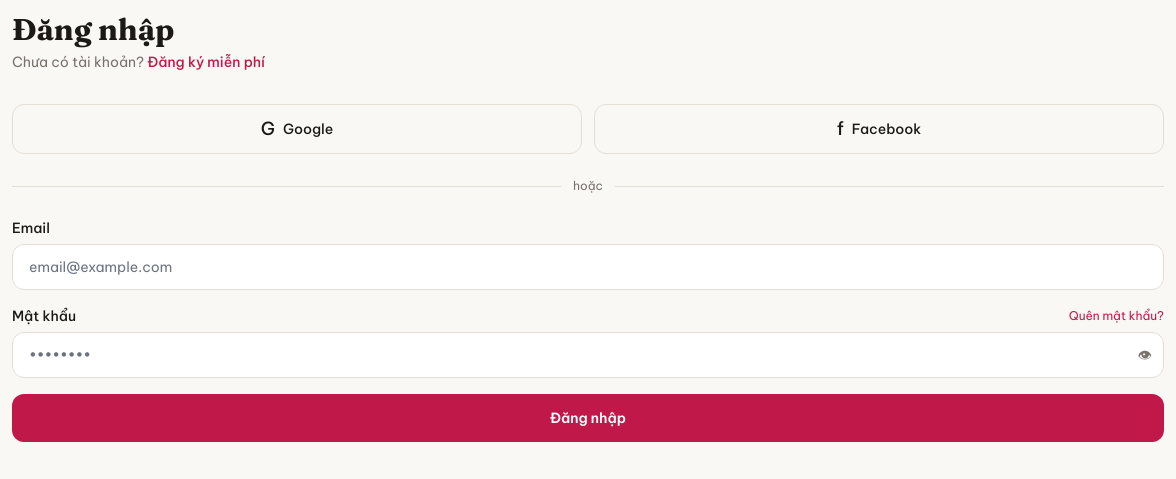
it: LoginPage.vue › displays validation errors under fields (422)
The width and height of the screenshot is (1176, 479).
Type "test@example.com" into the field labelled "Email" at (588, 267), box x1=12 y1=244 x2=1164 y2=290
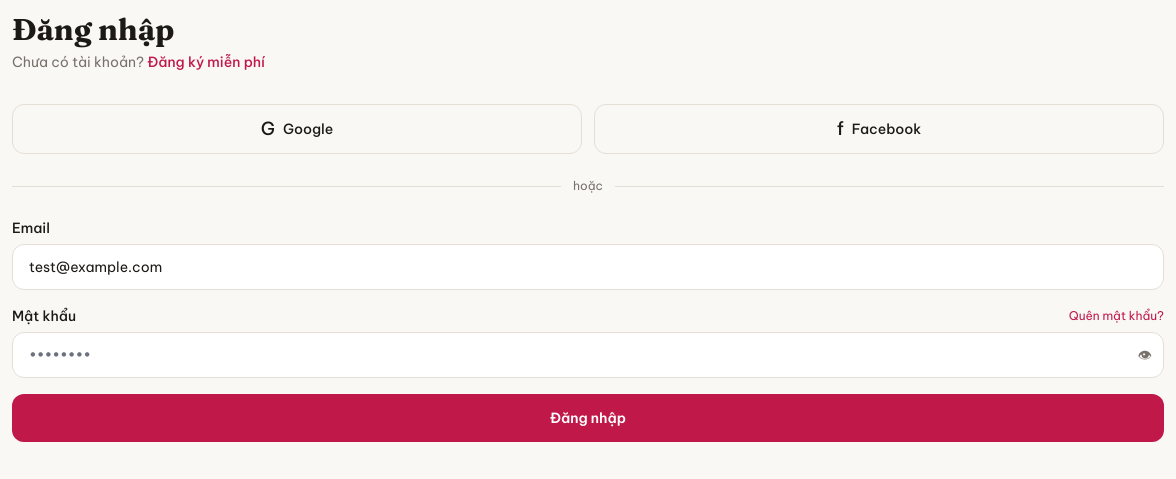
Type "password123" into the password field labelled "Mật khẩu" at (588, 355), box x1=12 y1=332 x2=1164 y2=378
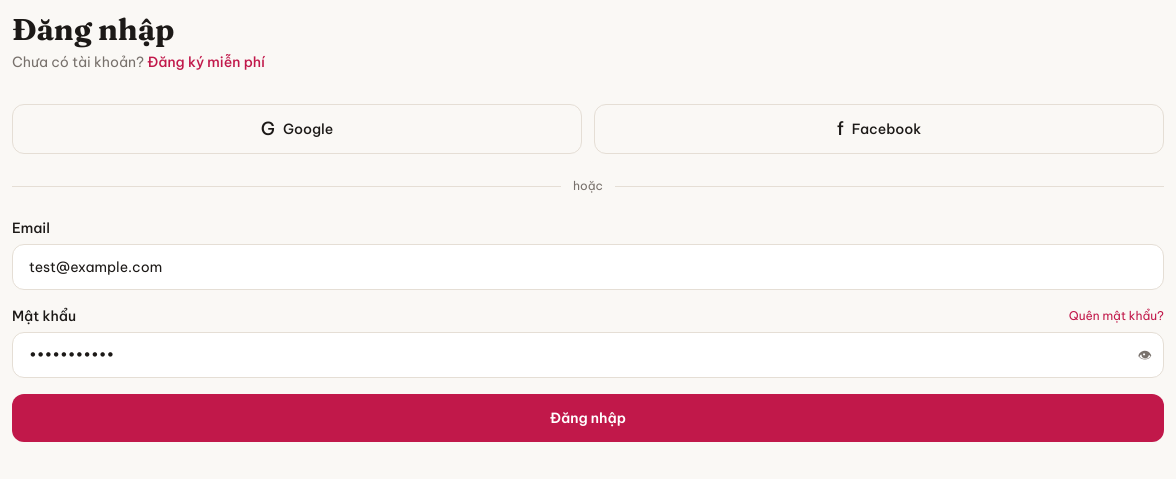
Submit the form, box x1=12 y1=218 x2=1164 y2=442
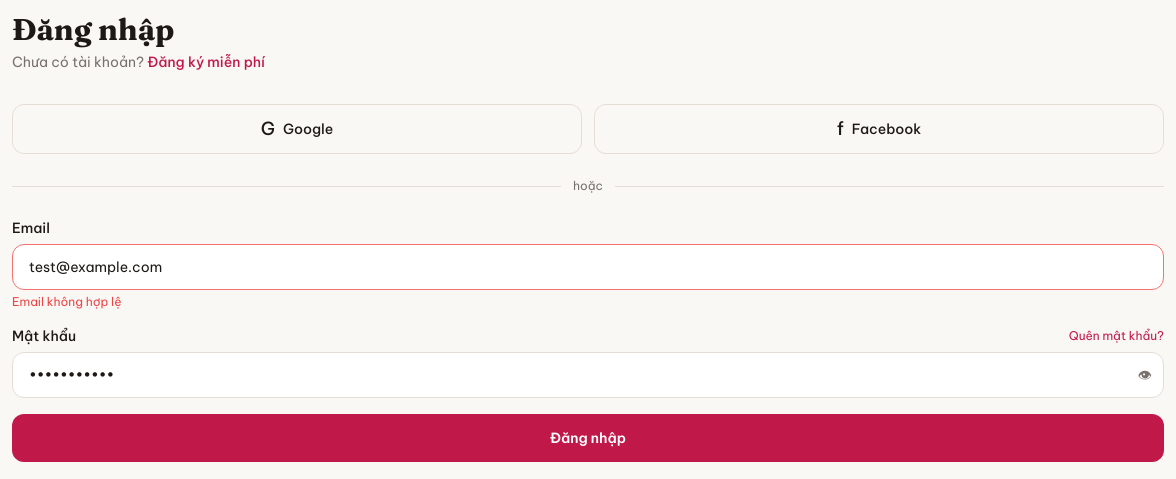
expect the text "Email không hợp lệ" is shown: met, box x1=12 y1=294 x2=122 y2=309
